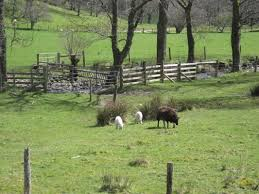sheep: (154, 106, 177, 127), (114, 116, 124, 130), (135, 111, 144, 125)
